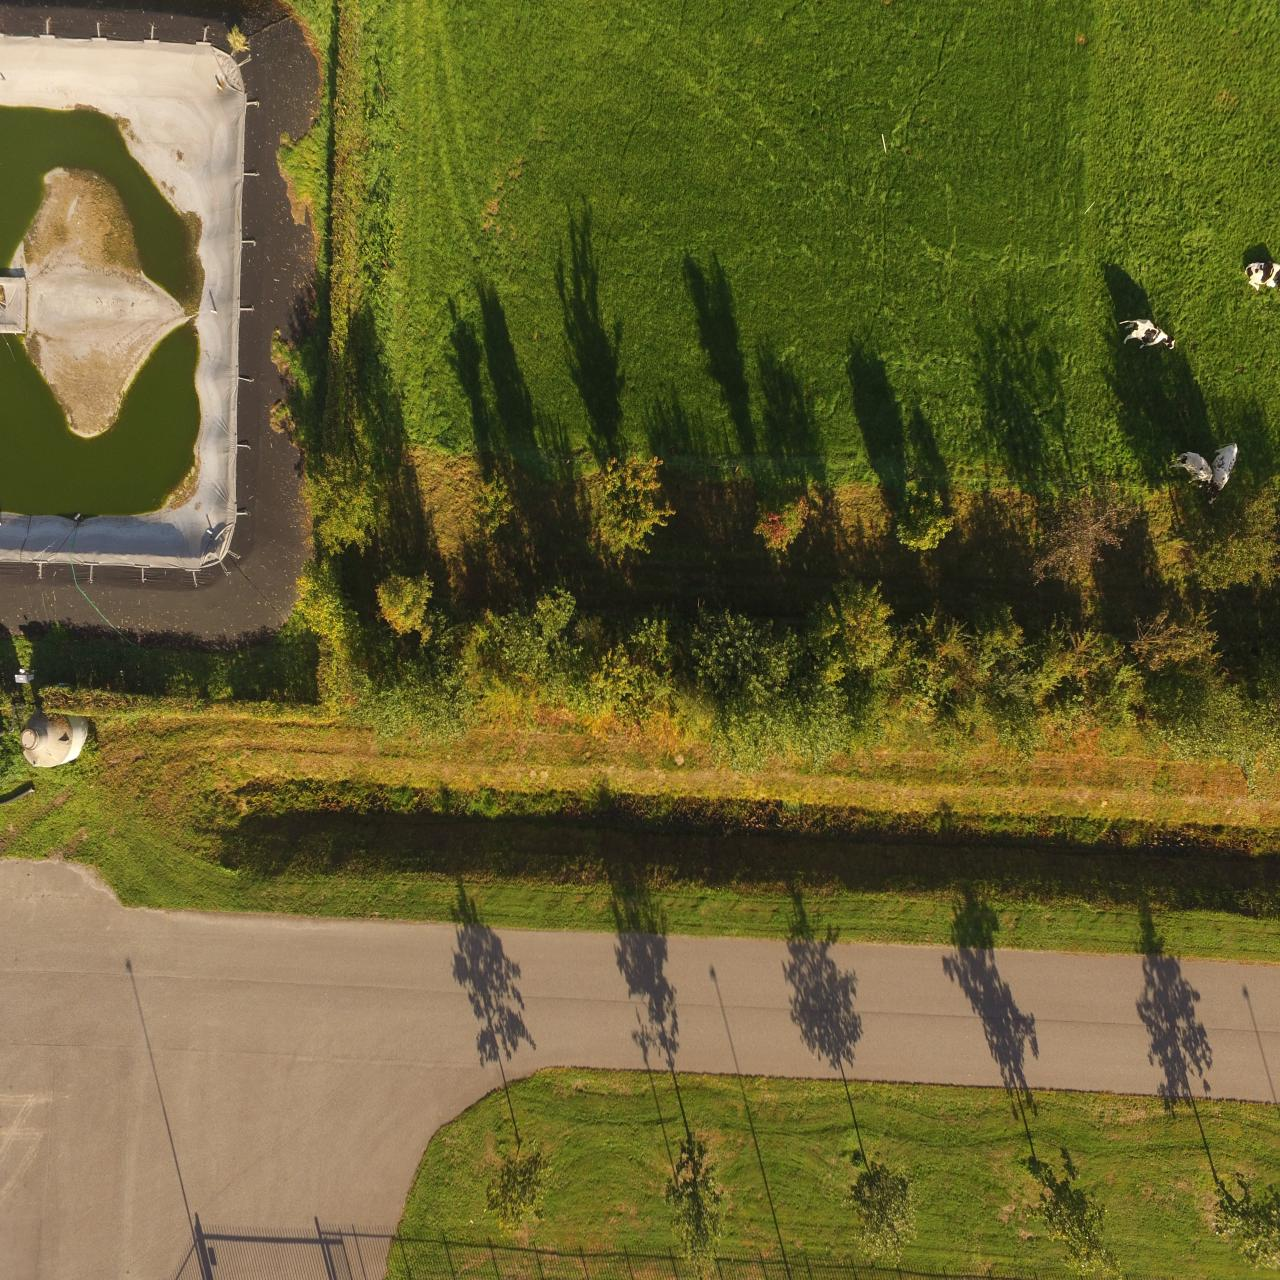cow: (1121, 309, 1191, 372), (1159, 443, 1220, 493), (1216, 441, 1245, 499)
